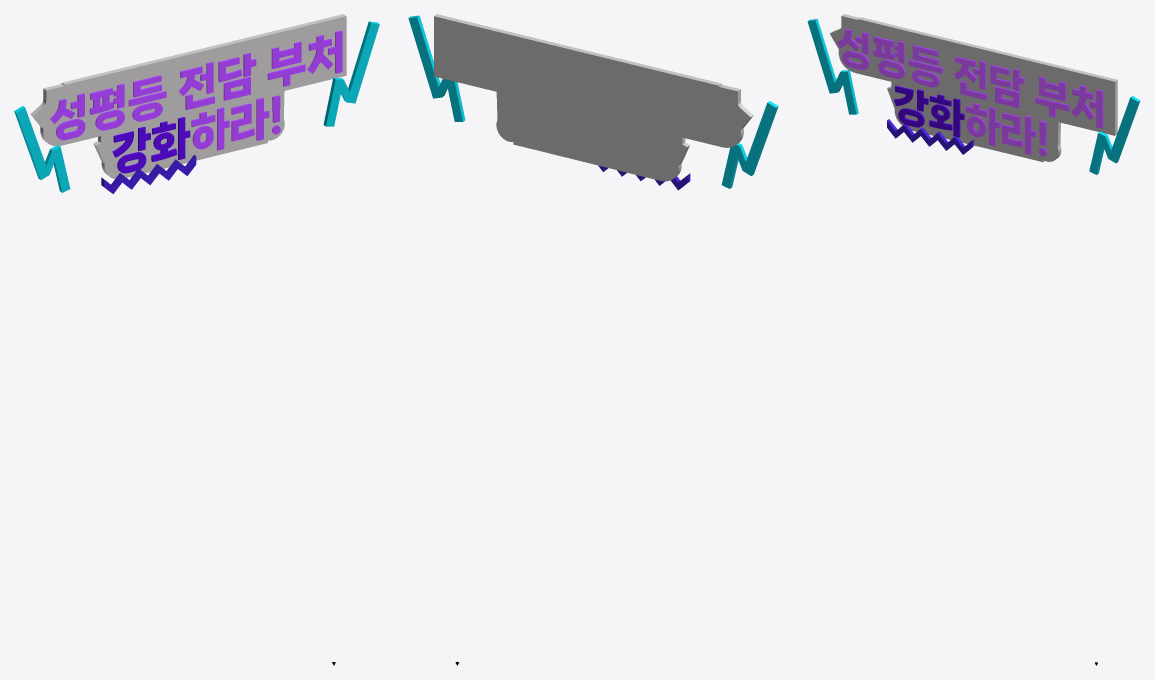
Rendered from yeo3_.glb.
The picture shows the model from 3 angles, left to right: view 1: azimuth 30°, elevation 25°; view 2: azimuth 150°, elevation 25°; view 3: azimuth 330°, elevation 25°; orthographic projection. The views are drawn at different scales.
Visible parts, largest first — view 1: Body76, Body74, Body73, Body75, Body57001, Body7001; view 2: Body76, Body74, Body73; view 3: Body76, Body73, Body74, Body75, Body57001.
Boxes of the visible parts, x1,y1,x2,y2 form: Body76: (30, 14, 346, 178); Body74: (323, 21, 379, 126); Body73: (14, 106, 70, 192); Body75: (101, 155, 196, 193); Body57001: (231, 103, 254, 141); Body7001: (271, 41, 301, 68); Body76: (434, 14, 753, 181); Body74: (408, 15, 465, 121); Body73: (721, 101, 778, 188); Body76: (830, 14, 1117, 162); Body73: (807, 19, 858, 114); Body74: (1089, 96, 1140, 174); Body75: (887, 119, 973, 154); Body57001: (1002, 112, 1023, 146).
Bounding box in the file's own units: 1.16 × 1.96 × 0.0433.
